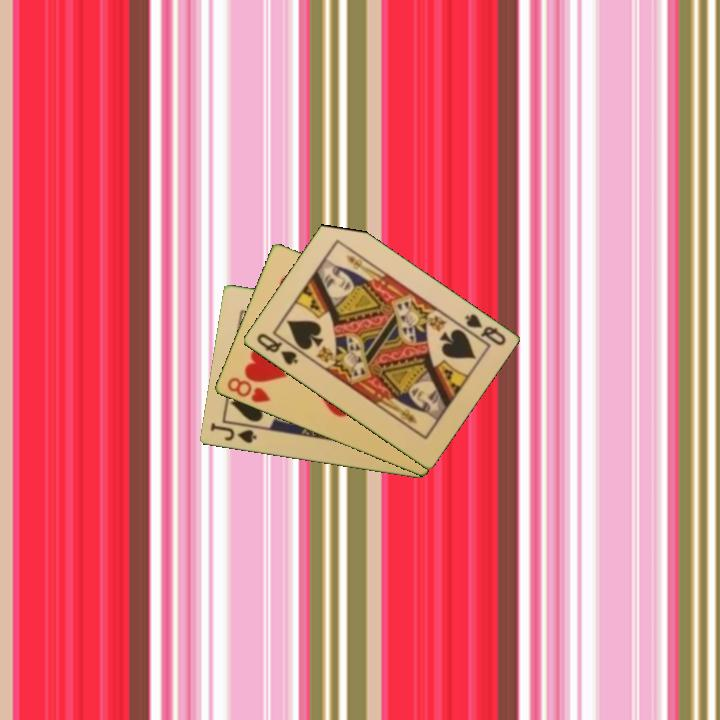8h: (223, 374, 273, 406)
Js: (207, 419, 259, 446)
Qs: (455, 310, 508, 349), (253, 330, 301, 368)
